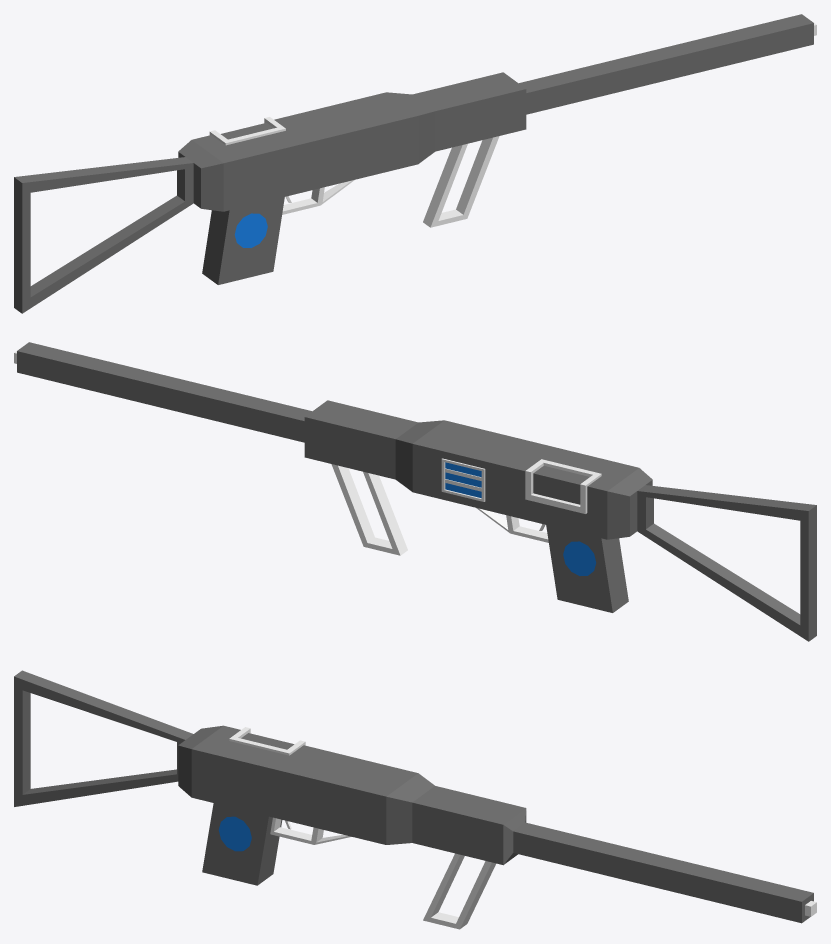
The model's file is Test_Snipe.fbx.
3 views of the same model, one above another, from view 1: azimuth 30°, elevation 25°; view 2: azimuth 150°, elevation 25°; view 3: azimuth 330°, elevation 25° (orthographic).
Parts seen in each view (by area): view 1: Pistol; view 2: Pistol, PistolReload; view 3: Pistol, Pistol.001, Pistol.005, Pistol.012, Pistol.010, Pistol.007, Pistol.002, Pistol.014, Pistol.009, Pistol.008, Pistol.003, Pistol.016 (+5 smaller).
Part boxes in pixels (x1,y1,x2,y2): Pistol: [14, 21, 816, 313]; Pistol: [14, 349, 816, 641]; PistolReload: [533, 466, 589, 504]; Pistol: [14, 670, 816, 929]; Pistol.001: [784, 893, 807, 923]; Pistol.005: [711, 875, 735, 905]; Pistol.012: [585, 844, 608, 874]; Pistol.010: [621, 853, 644, 883]; Pistol.007: [675, 866, 698, 896]; Pistol.002: [765, 888, 789, 918]; Pistol.014: [549, 836, 572, 865]; Pistol.009: [639, 858, 663, 887]; Pistol.008: [657, 862, 681, 892]; Pistol.003: [747, 884, 771, 914]; Pistol.016: [513, 827, 536, 856].
Size of the model in its own units: 288 by 50.47 by 21.23.
